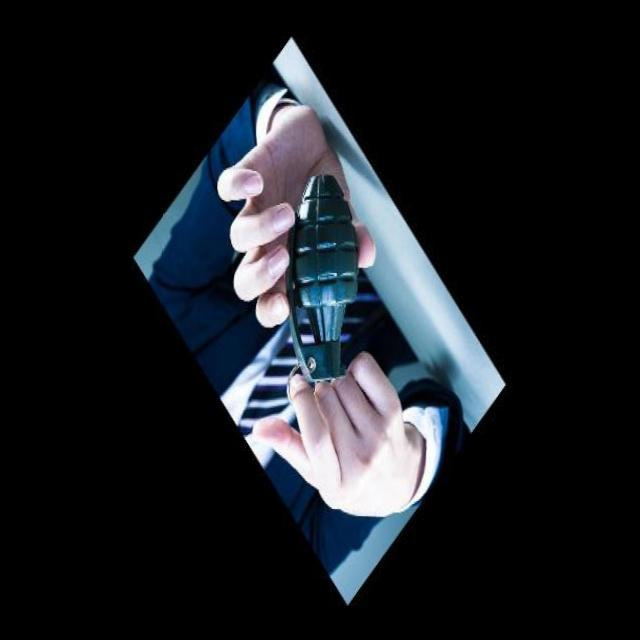grenade: (282, 170, 366, 390)
